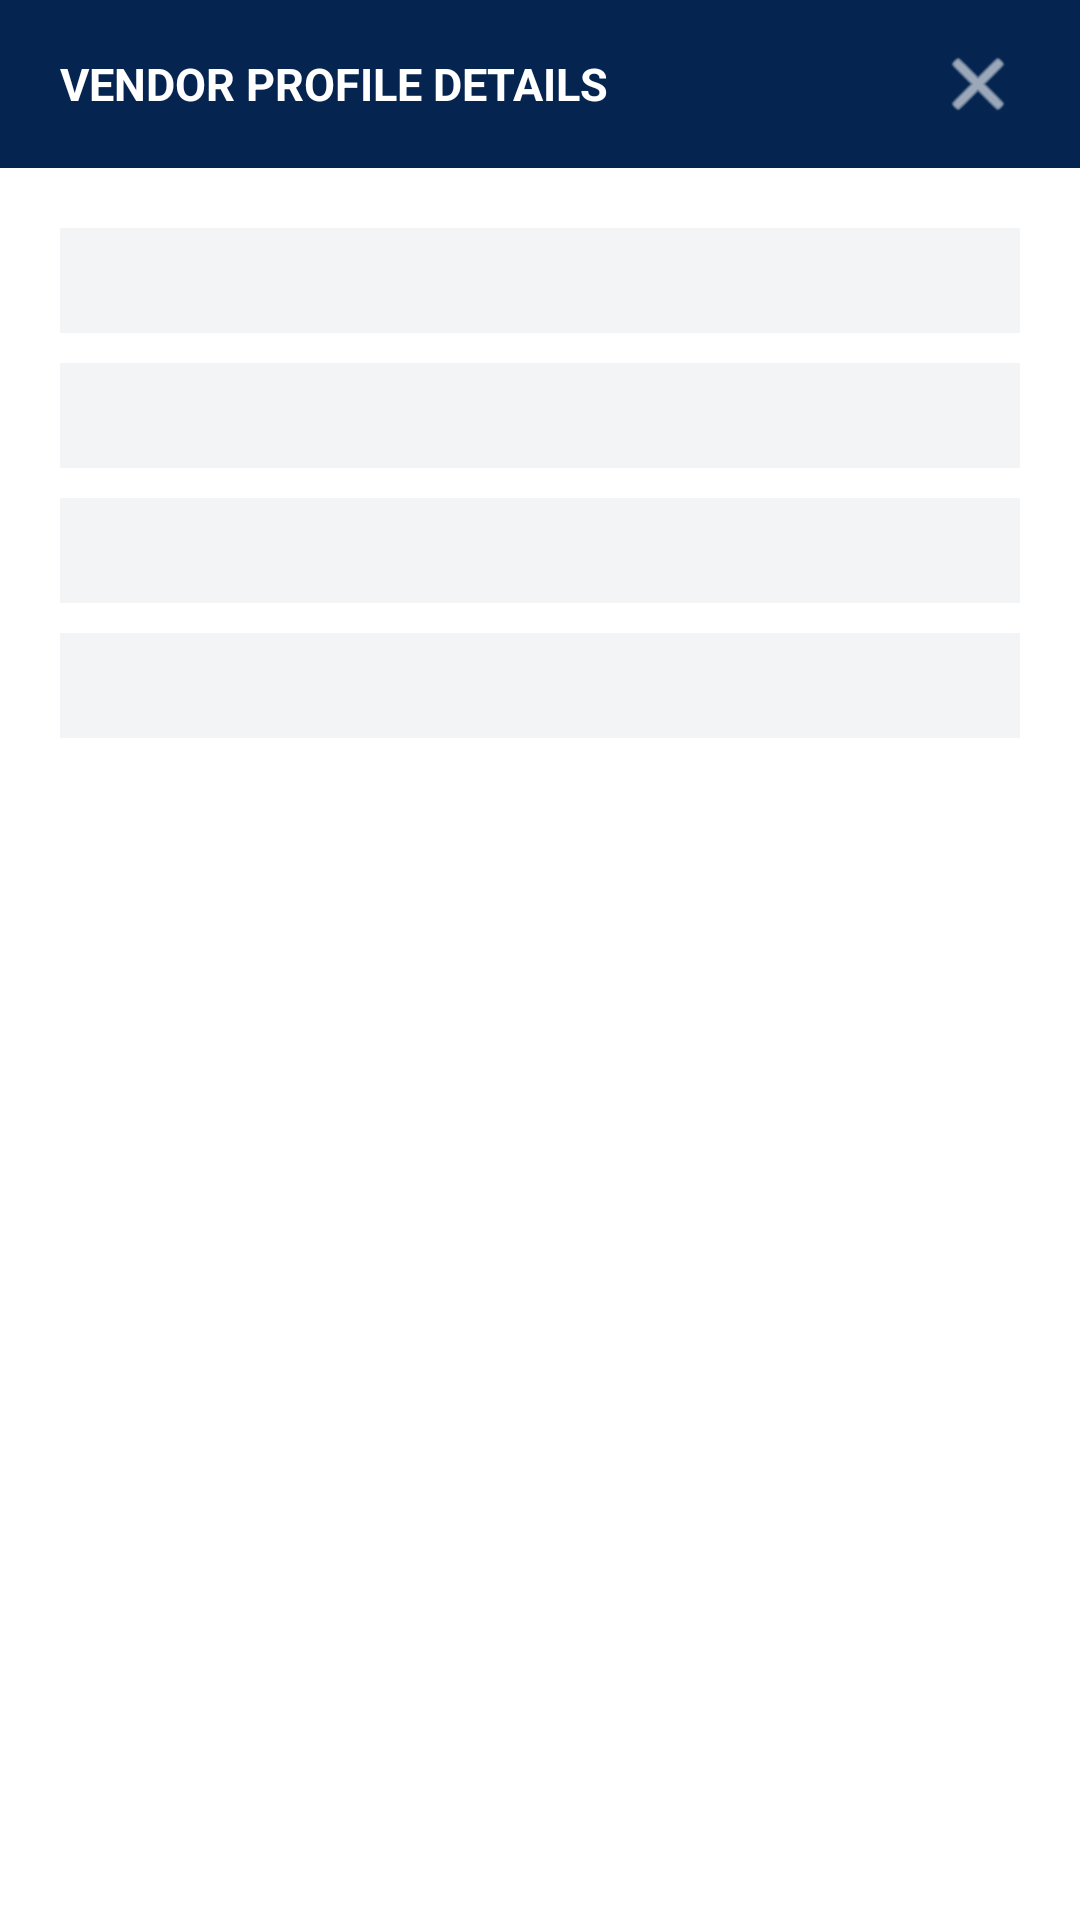

Locate icon controls on the screen. Image size 1080px x 1920px, boxes as [x1=x1, y1=y1, x2=x2, y2=y2].
close clear cancel: [x1=952, y1=58, x2=1004, y2=110]
